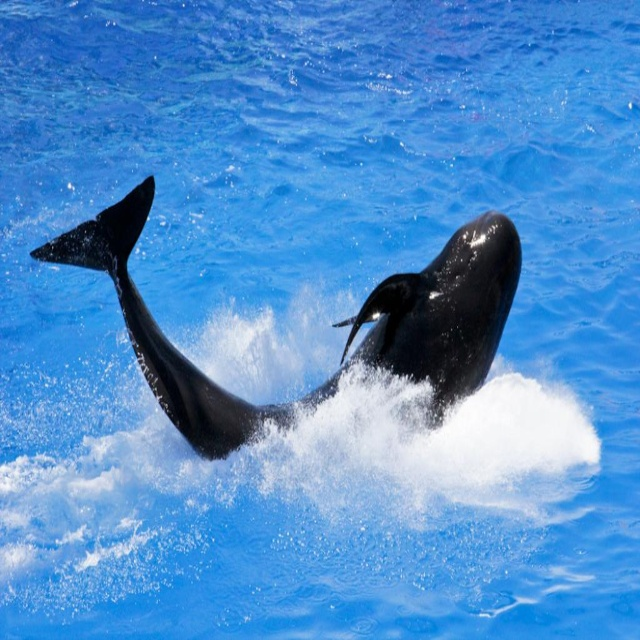Whale: (29, 175, 522, 462)
